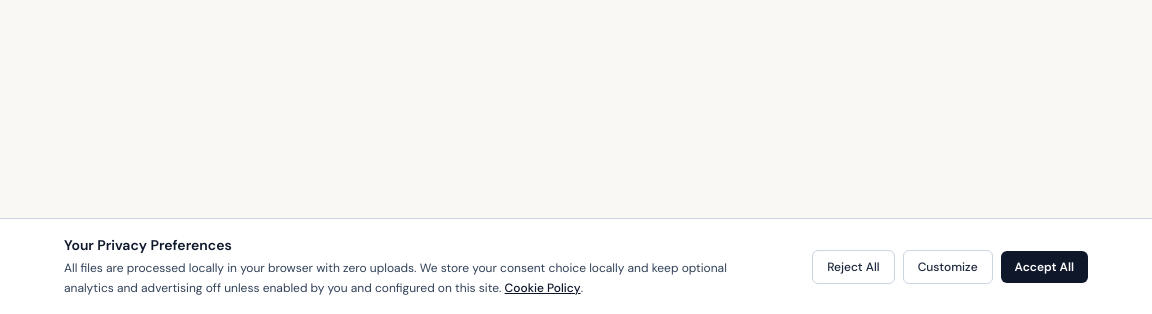
it: CookieConsentBanner › opens granular preferences on Customize without saving prematurely, then saves exact selections
Later steps or results of the test are not shown.
What coordinates should you click on to do the following:
click the button "Customize"
I would click on:
 (948, 266)
Its box is left=903, top=250, right=993, bottom=284.
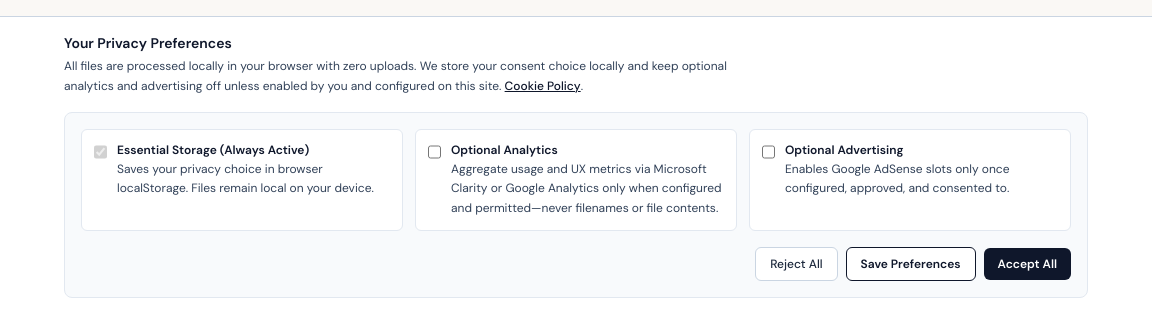
Expected: the element with id "consent-preferences-panel" is shown, left=64, top=112, right=1088, bottom=298
Expected: the checkbox with id "consent-essential" is checked, left=94, top=144, right=107, bottom=160
Expected: the checkbox with id "consent-essential" is disabled, left=94, top=144, right=107, bottom=160
What coordinates should you click on to do the following:
click the checkbox with id "consent-analytics"
I would click on:
 (434, 152)
Its box is left=428, top=144, right=441, bottom=160.
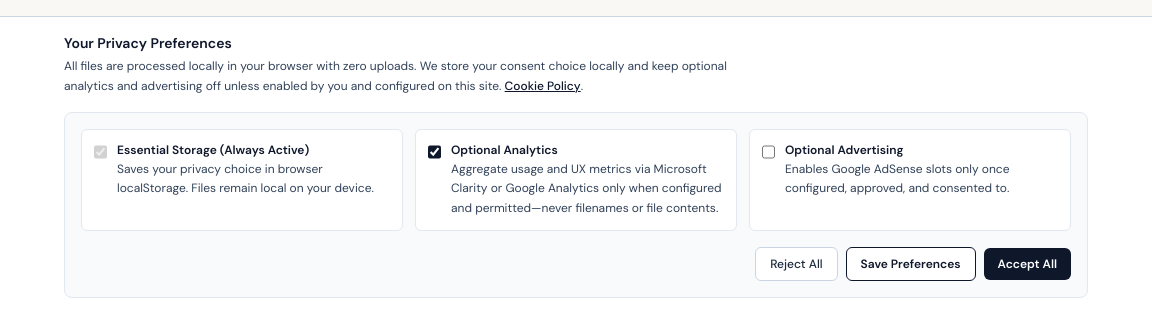
Expected: the checkbox with id "consent-analytics" is checked, left=428, top=144, right=441, bottom=160
Expected: the checkbox with id "consent-ads" is not checked, left=762, top=144, right=775, bottom=160
